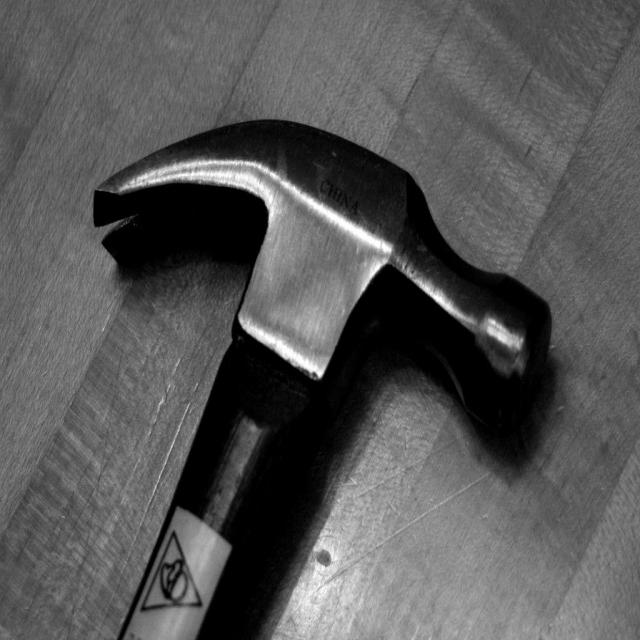hammer: (92, 117, 554, 639)
